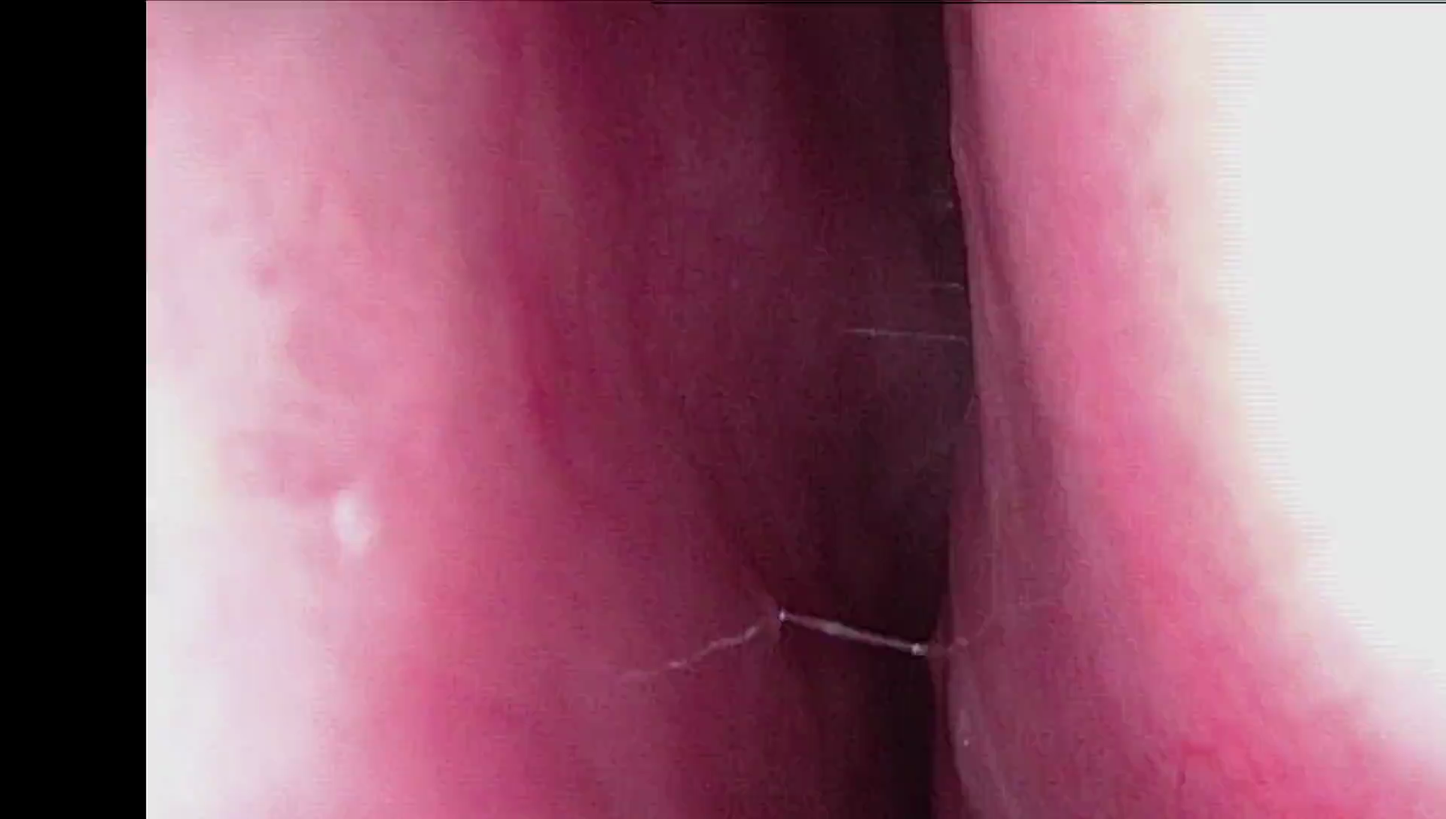close_wall: (1032, 7, 1446, 819), (148, 10, 559, 819)
next: (792, 507, 993, 819)
